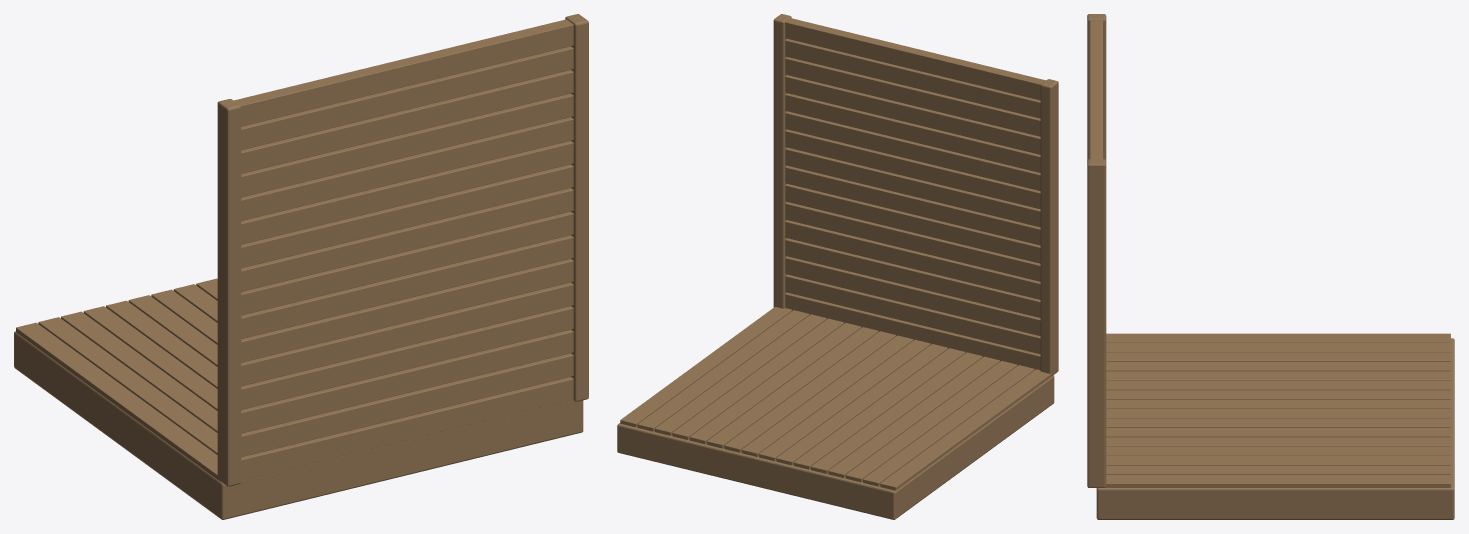
Rendered from timber_construction.glb.
3 renders of one model, left to right at view 1: azimuth 30°, elevation 25°; view 2: azimuth 150°, elevation 25°; view 3: azimuth 270°, elevation 25°, orthographic. The views are drawn at different scales.
Visible parts, largest first — view 1: Foundation, Wall upright, Wallboard.015, Wallboard.010, Wallboard.007, Wallboard.011, Wallboard.013, Wallboard.014, Wallboard.009, Wallboard.012, Wallboard, Wallboard.004 (+15 smaller); view 2: Foundation, Wallboard.015, Wall upright, Wallboard.012, Wallboard.009, Wallboard.011, Wallboard.010, Wallboard.013, Wallboard.007, Wallboard.014, Wallboard.004, Wallboard.001 (+23 smaller); view 3: Foundation, Floorboard.015, Wall upright.001, Floorboard.005, Floorboard, Floorboard.001, Floorboard.002, Floorboard.003, Floorboard.004, Floorboard.006, Floorboard.007, Floorboard.008 (+8 smaller).
Boxes of the visible parts, x1=… form: Foundation: x1=14, y1=331, x2=583, y2=519; Wall upright: x1=217, y1=99, x2=241, y2=486; Wallboard.015: x1=219, y1=19, x2=573, y2=128; Wallboard.010: x1=219, y1=140, x2=573, y2=245; Wallboard.007: x1=219, y1=211, x2=573, y2=316; Wallboard.011: x1=223, y1=117, x2=573, y2=223; Wallboard.013: x1=219, y1=70, x2=573, y2=176; Wallboard.014: x1=219, y1=46, x2=573, y2=151; Wallboard.009: x1=219, y1=164, x2=573, y2=269; Wallboard.012: x1=218, y1=93, x2=573, y2=198; Wallboard: x1=241, y1=377, x2=573, y2=480; Wallboard.004: x1=241, y1=282, x2=573, y2=386; Foundation: x1=617, y1=375, x2=1054, y2=519; Wallboard.015: x1=785, y1=18, x2=1057, y2=100; Wall upright: x1=1040, y1=79, x2=1058, y2=375; Wallboard.012: x1=785, y1=75, x2=1057, y2=154; Wallboard.009: x1=785, y1=129, x2=1057, y2=209; Wallboard.011: x1=785, y1=93, x2=1057, y2=172; Wallboard.010: x1=785, y1=111, x2=1057, y2=190; Wallboard.013: x1=785, y1=57, x2=1057, y2=136; Wallboard.007: x1=785, y1=165, x2=1057, y2=245; Wallboard.014: x1=785, y1=39, x2=1057, y2=118; Wallboard.004: x1=785, y1=220, x2=1057, y2=299; Wallboard.001: x1=785, y1=274, x2=1057, y2=354; Foundation: x1=1096, y1=338, x2=1454, y2=519; Floorboard.015: x1=1106, y1=475, x2=1450, y2=487; Wall upright.001: x1=1087, y1=159, x2=1106, y2=487; Floorboard.005: x1=1106, y1=380, x2=1450, y2=390; Floorboard: x1=1106, y1=333, x2=1450, y2=342; Floorboard.001: x1=1106, y1=343, x2=1450, y2=352; Floorboard.002: x1=1106, y1=352, x2=1450, y2=361; Floorboard.003: x1=1106, y1=362, x2=1450, y2=371; Floorboard.004: x1=1106, y1=371, x2=1450, y2=380; Floorboard.006: x1=1106, y1=390, x2=1450, y2=399; Floorboard.007: x1=1106, y1=399, x2=1450, y2=408; Floorboard.008: x1=1106, y1=409, x2=1450, y2=418.
Size of the model in its own units: 3.05 by 3.35 by 3.13.
